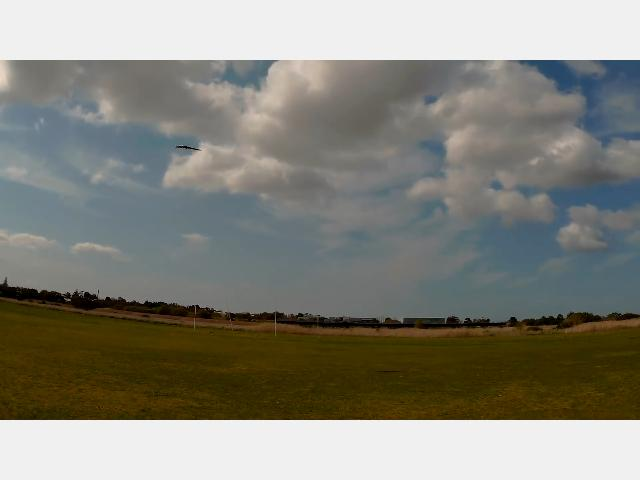Anti-Drone: (174, 145, 202, 152)
